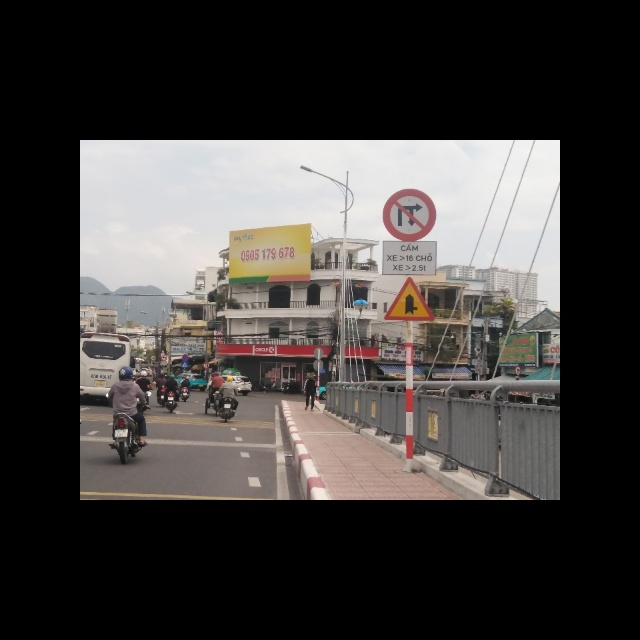Cấm quay đầu và rẽ phải: (382, 188, 436, 242)
Giao nhau với đường không ưu tiên: (383, 278, 435, 320)
